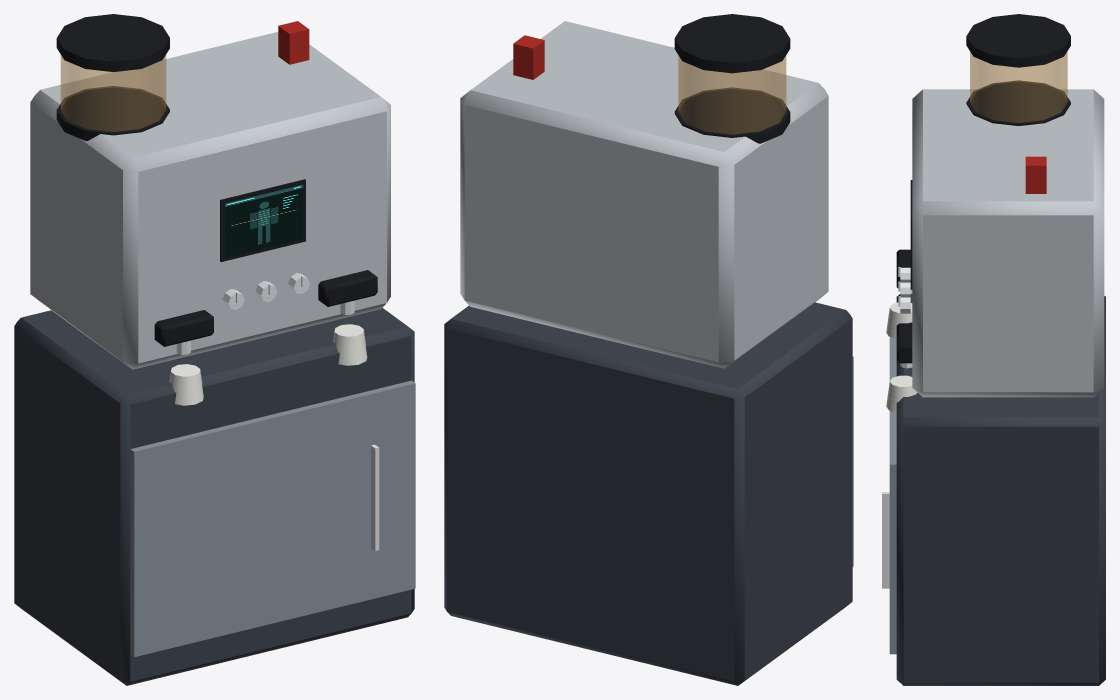
File: galley_coffee_machine.glb
3 renders of one model, left to right at view 1: azimuth 30°, elevation 25°; view 2: azimuth 150°, elevation 25°; view 3: azimuth 270°, elevation 25°, orthographic. The views are drawn at different scales.
Parts seen in each view (by area): view 1: galley_coffee_machine; view 2: galley_coffee_machine; view 3: galley_coffee_machine.
Part boxes in pixels (x1,y1,x2,y2): galley_coffee_machine: [14, 14, 415, 685]; galley_coffee_machine: [444, 14, 853, 685]; galley_coffee_machine: [882, 14, 1105, 685].
Size of the model in its own units: 0.9 by 1.73 by 0.642.
Materials: 9 (1 with a texture image).
